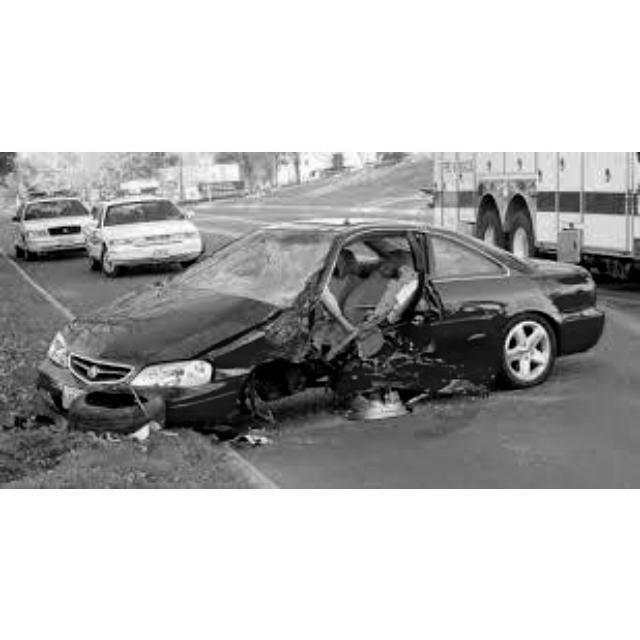Front-windscreen-damage: (201, 230, 329, 296)
bonnet-dent: (80, 282, 249, 352)
fender-dent: (210, 311, 311, 364)
front-bumper-dent: (38, 376, 199, 427)
